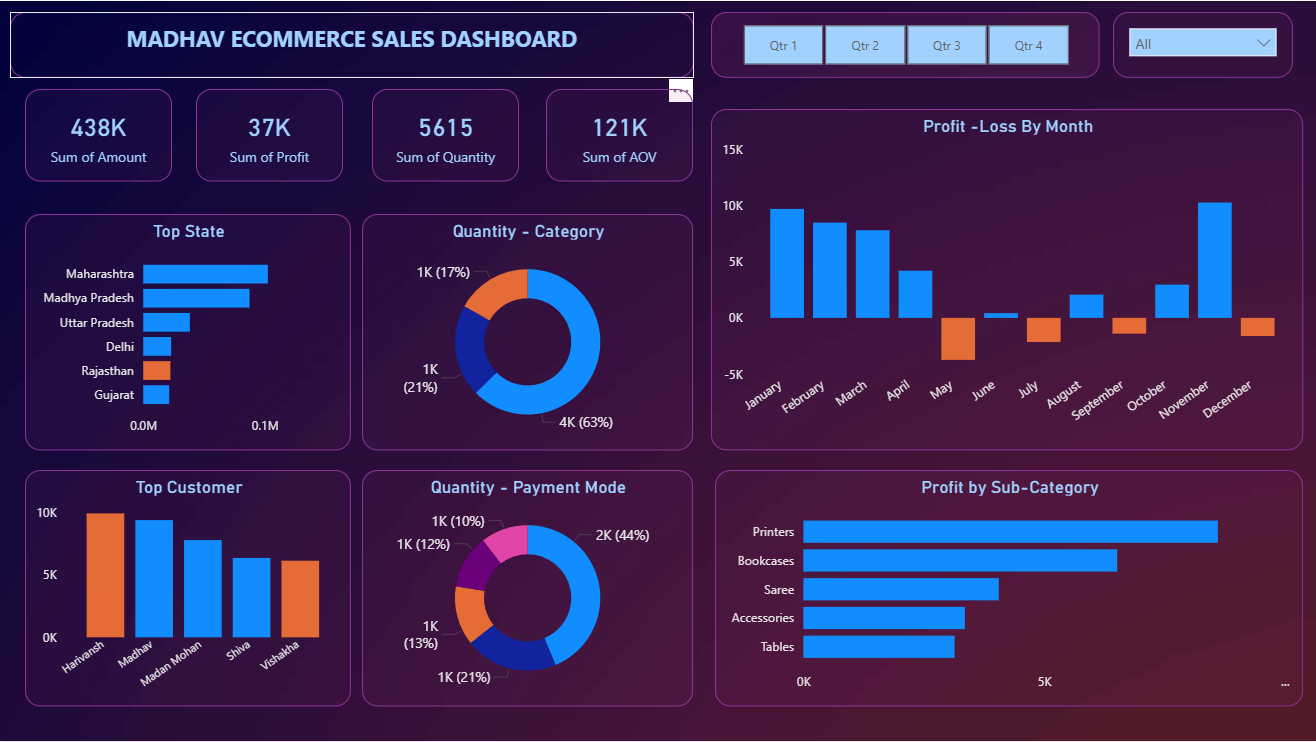

The page's visual inventory and layout, read from the dashboard file:
{"tool":"powerbi","page":{"name":"Page 1","canvas":[1280,720],"ordinal":0},"visuals":[{"type":"textbox","box":[9.7,10.7,664.8,64.2],"z":0},{"type":"columnChart","title":"Profit -Loss By Month","fields":{"Category":["Orders.Order Date.Variation.Date Hierarchy.Month"],"Y":["Details.Profit"]},"box":[691.1,105.1,576.2,331.9],"z":1000},{"type":"barChart","title":" Profit by Sub-Category","fields":{"Category":["Details.Sub-Category"],"Y":["Details.Profit"]},"box":[695,456.5,572.3,229.7],"z":2000},{"type":"donutChart","title":" Quantity - Category","fields":{"Category":["Details.Category"],"Y":["Details.Quantity"]},"box":[352.4,207.3,322.2,229.7],"z":3000},{"type":"donutChart","title":" Quantity - Payment Mode","fields":{"Y":["Details.Quantity"],"Category":["Details.PaymentMode"]},"box":[352.4,456.5,322.2,229.7],"z":4000},{"type":"card","fields":{"Values":["Details.Amount"]},"box":[24.3,85.7,143.1,89.6],"z":5000},{"type":"card","fields":{"Values":["Details.Profit"]},"box":[190.8,85.7,143.1,89.6],"z":6000},{"type":"card","fields":{"Values":["Details.Quantity"]},"box":[362.1,85.7,143.1,89.6],"z":7000},{"type":"card","fields":{"Values":["Details.AOV"]},"box":[531.5,85.7,143.1,89.6],"z":8000},{"type":"barChart","title":"Top State","fields":{"Category":["Orders.State"],"Y":["Details.Amount"]},"box":[24.3,207.3,317.3,229.7],"z":9000},{"type":"columnChart","title":"Top Customer","fields":{"Y":["Details.Amount"],"Category":["Orders.CustomerName"]},"box":[24.3,456.5,317.3,229.7],"z":10000},{"type":"slicer","fields":{"Values":["Orders.Order Date.Variation.Date Hierarchy.Quarter"]},"box":[691.1,10.7,377.7,64.2],"z":11000},{"type":"slicer","fields":{"Values":["Orders.State"]},"box":[1082.4,10.7,175.2,64.2],"z":12000}]}

Visuals, with their boxes in screenshot pixels (x1, y1, x2, y2), scaled from the page's 1280x720 canvas onto the 1316x742 screenshot:
textbox: (x1=10, y1=11, x2=693, y2=77)
"Profit -Loss By Month" columnChart: (x1=711, y1=108, x2=1303, y2=450)
" Profit by Sub-Category" barChart: (x1=715, y1=470, x2=1303, y2=707)
" Quantity - Category" donutChart: (x1=362, y1=214, x2=694, y2=450)
" Quantity - Payment Mode" donutChart: (x1=362, y1=470, x2=694, y2=707)
card - Details.Amount: (x1=25, y1=88, x2=172, y2=181)
card - Details.Profit: (x1=196, y1=88, x2=343, y2=181)
card - Details.Quantity: (x1=372, y1=88, x2=519, y2=181)
card - Details.AOV: (x1=546, y1=88, x2=694, y2=181)
"Top State" barChart: (x1=25, y1=214, x2=351, y2=450)
"Top Customer" columnChart: (x1=25, y1=470, x2=351, y2=707)
slicer - Orders.Order Date.Variation.Date Hierarchy.Quarter: (x1=711, y1=11, x2=1099, y2=77)
slicer - Orders.State: (x1=1113, y1=11, x2=1293, y2=77)
